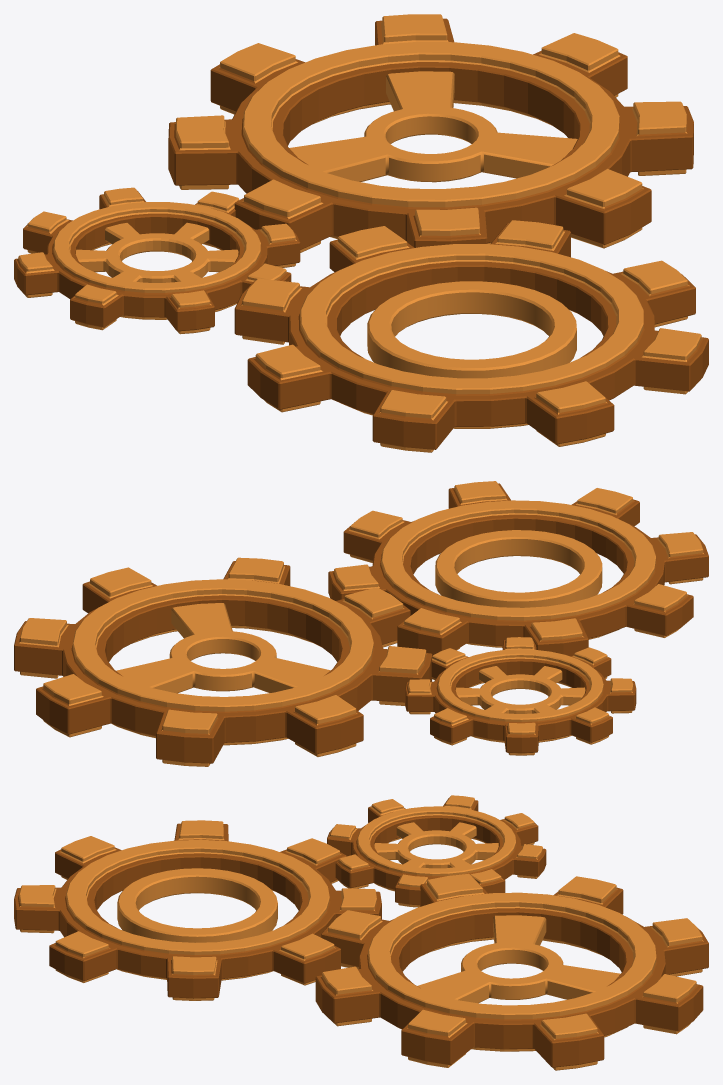
Rendered from Shadow_Gear.fbx.
3 views of the same model, one above another, from view 1: azimuth 30°, elevation 25°; view 2: azimuth 150°, elevation 25°; view 3: azimuth 270°, elevation 25° (orthographic). The views are drawn at different scales.
Visible parts, largest first — view 1: Circle.003, Circle.001, Circle.012; view 2: Circle.003, Circle.001, Circle.012; view 3: Circle.003, Circle.001, Circle.012.
Boxes of the visible parts, x1,y1,x2,y2 form: Circle.003: (168, 14, 693, 252); Circle.001: (234, 220, 708, 452); Circle.012: (14, 187, 300, 334); Circle.003: (14, 557, 432, 766); Circle.001: (328, 481, 708, 656); Circle.012: (405, 637, 636, 755); Circle.003: (315, 873, 708, 1070); Circle.001: (14, 820, 381, 1000); Circle.012: (327, 795, 546, 907).
Size of the model in its own units: 1249 by 88.58 by 1466.
